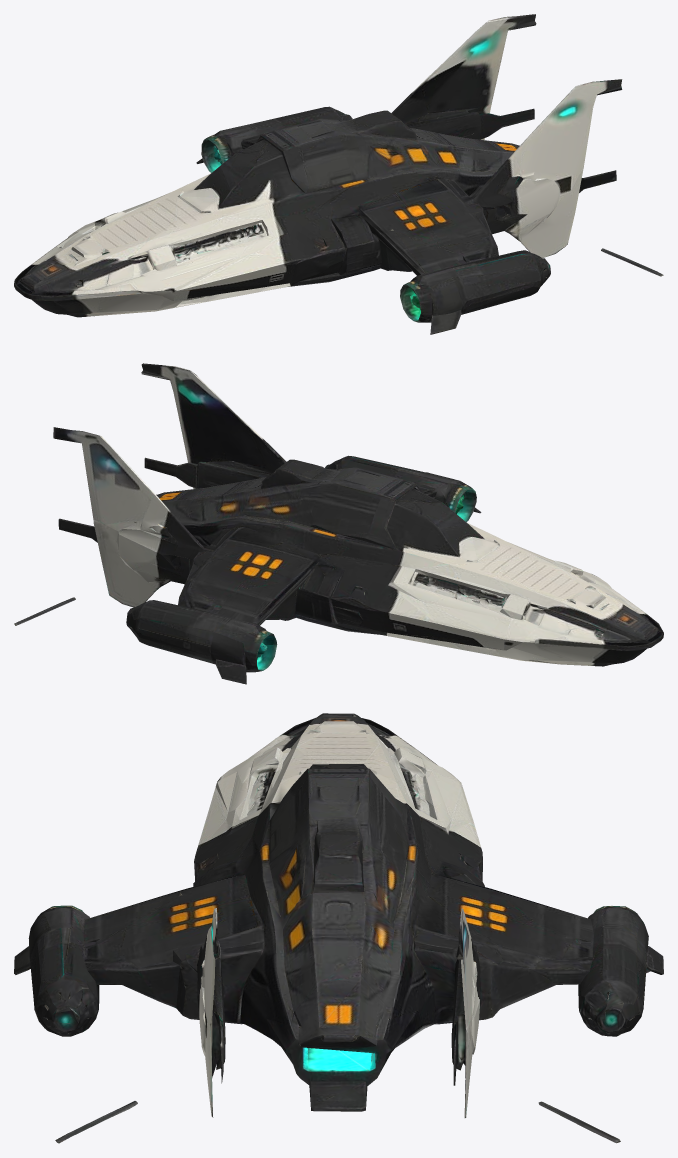
The model's file is vessel-paladin.glb.
3 renders of one model, top to bottom at view 1: azimuth 30°, elevation 25°; view 2: azimuth 150°, elevation 25°; view 3: azimuth 270°, elevation 25°, orthographic. The views are drawn at different scales.
Size of the model in its own units: 1.9 by 0.5272 by 1.38.
1 material, 1 textured.
